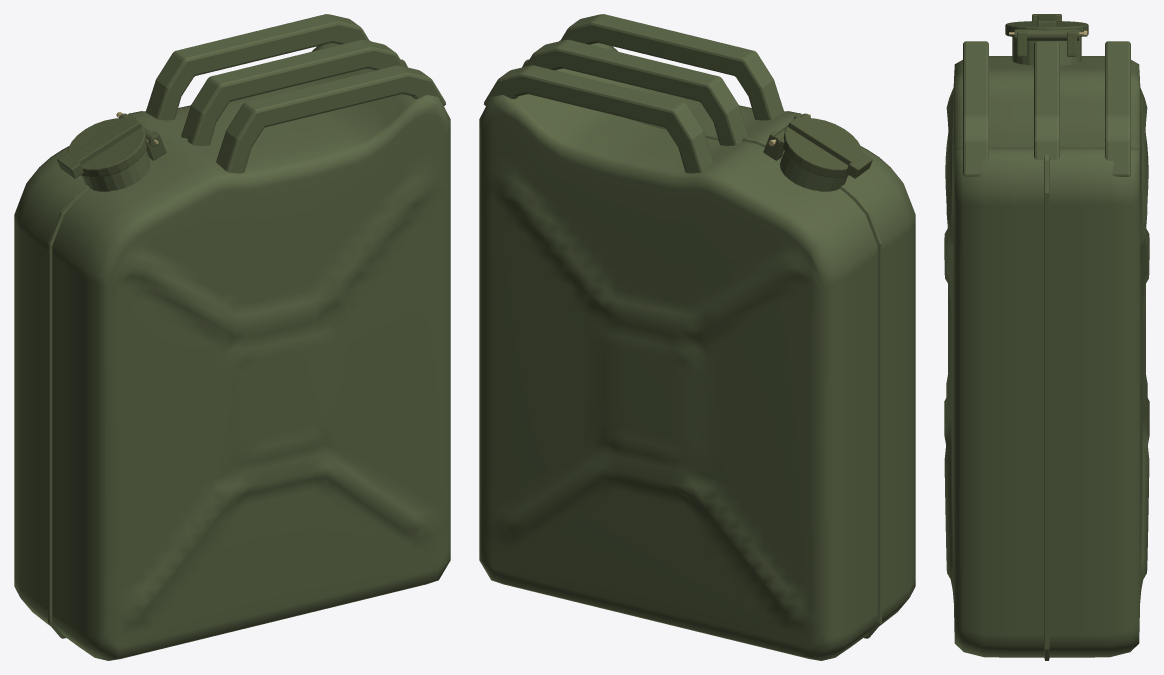
3 renders of one model, left to right at view 1: azimuth 30°, elevation 25°; view 2: azimuth 150°, elevation 25°; view 3: azimuth 270°, elevation 25°, orthographic.
Visible parts, largest first — view 1: Closed_pressed_body_with_integral_ribs, Front_bridge_handle_with_open_underside, Rear_bridge_handle_with_open_underside, Center_bridge_handle_with_open_underside, Continuous_center_weld_flange, Closed_bayonet_cap_lid, Closed_cam_latch_bridge, Closed_sloped_filler_neck; view 2: Closed_pressed_body_with_integral_ribs, Rear_bridge_handle_with_open_underside, Front_bridge_handle_with_open_underside, Center_bridge_handle_with_open_underside, Continuous_center_weld_flange, Closed_bayonet_cap_lid, Closed_cam_latch_bridge, Closed_sloped_filler_neck; view 3: Closed_pressed_body_with_integral_ribs, Front_bridge_handle_with_open_underside, Rear_bridge_handle_with_open_underside, Center_bridge_handle_with_open_underside, Continuous_center_weld_flange, Closed_sloped_filler_neck, Closed_bayonet_cap_lid, Cap_hinge_axle.
Part boxes in pixels (left/top/right/bottom): Closed_pressed_body_with_integral_ribs: left=14, top=41, right=450, bottom=660; Front_bridge_handle_with_open_underside: left=216, top=65, right=445, bottom=173; Rear_bridge_handle_with_open_underside: left=146, top=14, right=369, bottom=120; Center_bridge_handle_with_open_underside: left=181, top=39, right=404, bottom=145; Continuous_center_weld_flange: left=48, top=59, right=407, bottom=638; Closed_bayonet_cap_lid: left=67, top=118, right=147, bottom=177; Closed_cam_latch_bridge: left=69, top=116, right=141, bottom=165; Closed_sloped_filler_neck: left=82, top=151, right=149, bottom=191; Closed_pressed_body_with_integral_ribs: left=479, top=41, right=915, bottom=660; Rear_bridge_handle_with_open_underside: left=484, top=65, right=713, bottom=173; Front_bridge_handle_with_open_underside: left=560, top=14, right=783, bottom=120; Center_bridge_handle_with_open_underside: left=525, top=39, right=748, bottom=145; Continuous_center_weld_flange: left=522, top=59, right=881, bottom=638; Closed_bayonet_cap_lid: left=782, top=118, right=862, bottom=177; Closed_cam_latch_bridge: left=788, top=116, right=860, bottom=165; Closed_sloped_filler_neck: left=780, top=151, right=847, bottom=191; Closed_pressed_body_with_integral_ribs: left=944, top=56, right=1149, bottom=657; Front_bridge_handle_with_open_underside: left=963, top=41, right=988, bottom=176; Rear_bridge_handle_with_open_underside: left=1105, top=41, right=1130, bottom=176; Center_bridge_handle_with_open_underside: left=1034, top=41, right=1059, bottom=159; Continuous_center_weld_flange: left=1044, top=155, right=1049, bottom=660; Closed_sloped_filler_neck: left=1012, top=37, right=1081, bottom=65; Closed_bayonet_cap_lid: left=1005, top=21, right=1088, bottom=36; Cap_hinge_axle: left=1014, top=29, right=1079, bottom=40.
Bounding box in the file's own units: 0.345 × 0.468 × 0.165.
